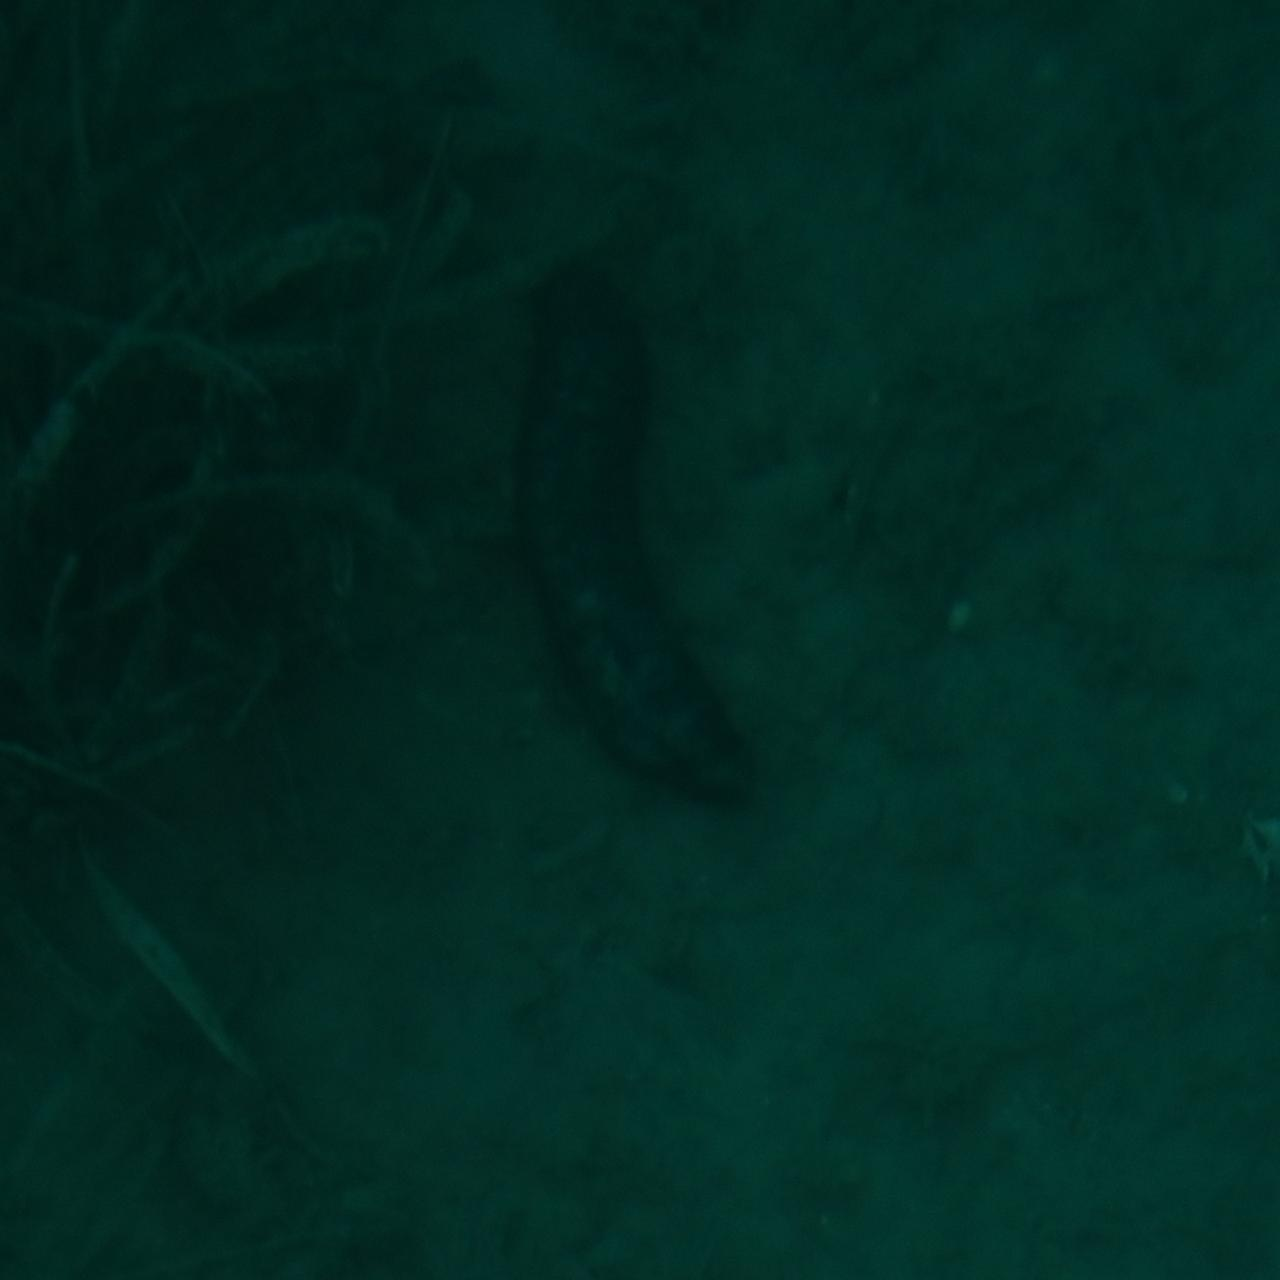Holothuria tubulosa: (505, 266, 775, 813)
